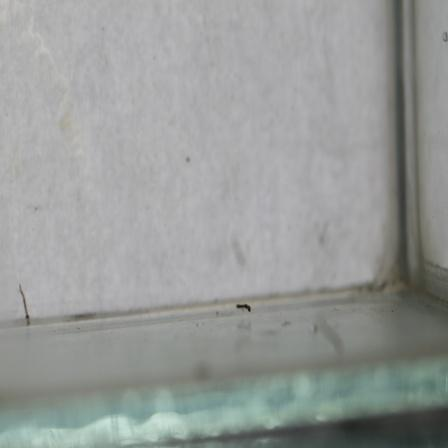Jentik-Nyamuk: (15, 281, 37, 328), (232, 298, 255, 316)
